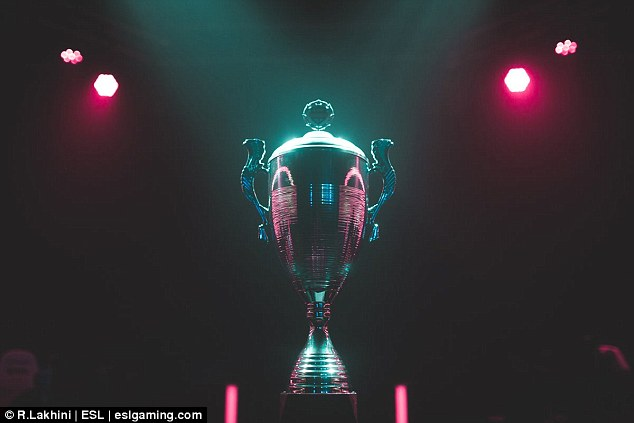trophy: (236, 95, 399, 423)
